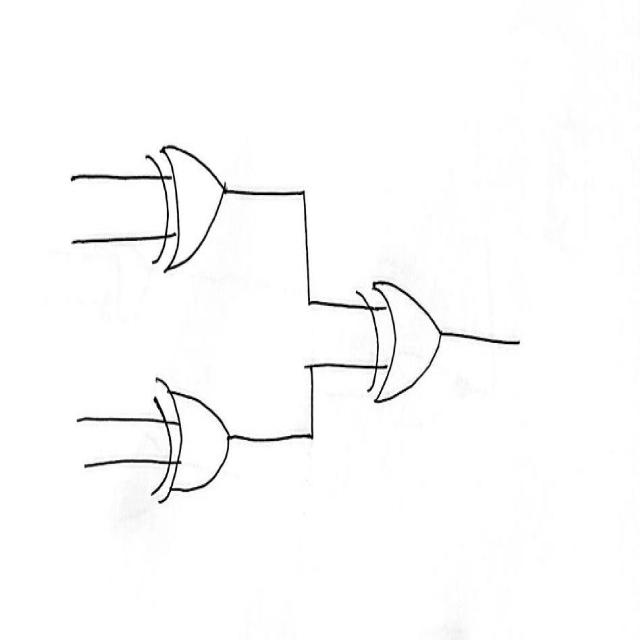XOR: (132, 130, 251, 287), (352, 256, 458, 429), (137, 362, 244, 515)
